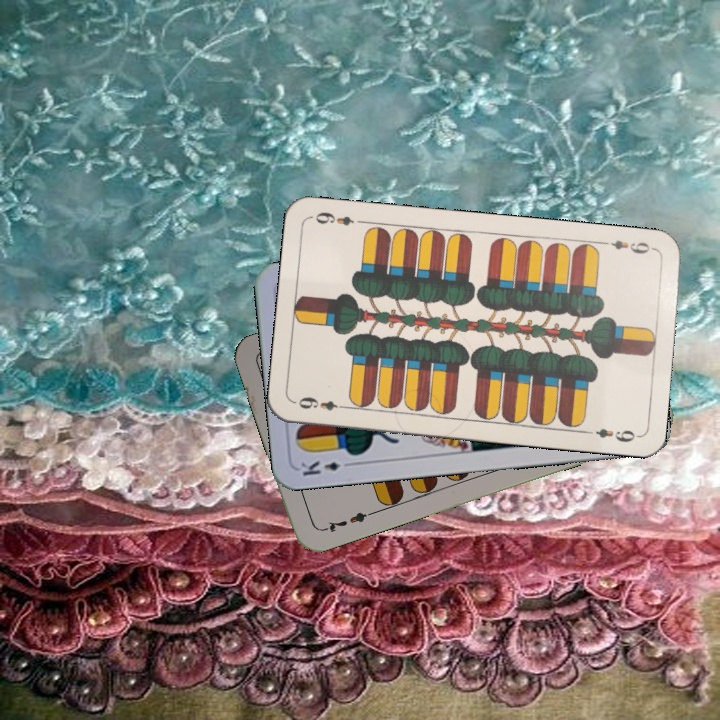E7: (318, 508, 375, 535)
E9: (598, 236, 657, 257), (292, 393, 351, 413)
EK: (296, 456, 356, 479)
